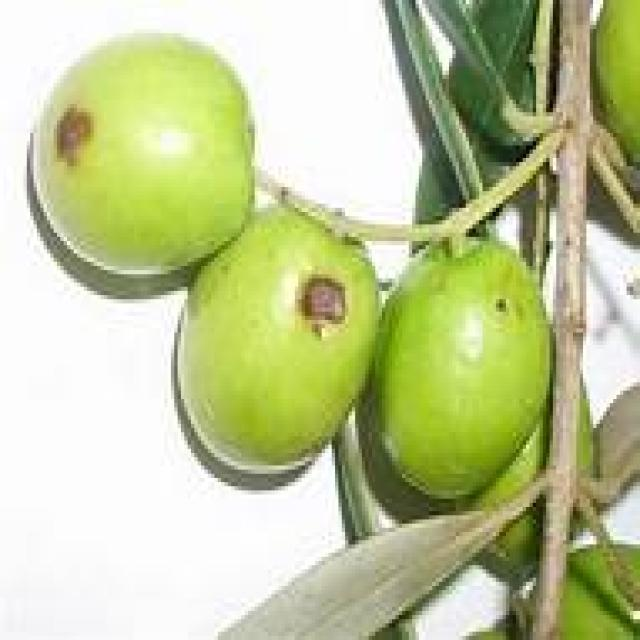Anthracnose: (178, 210, 378, 470), (37, 42, 251, 276), (372, 236, 546, 494)
